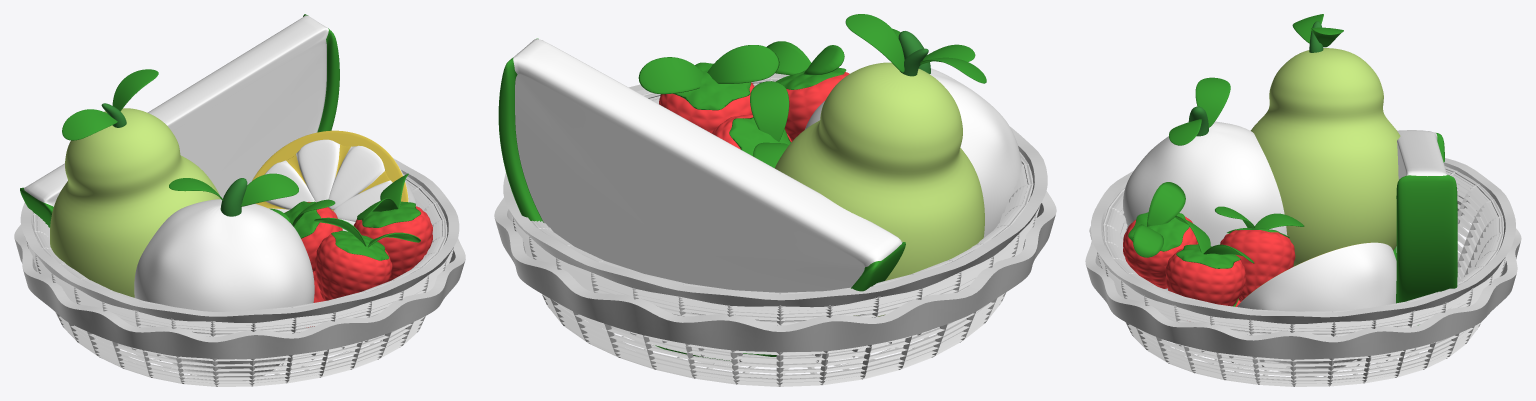
File: fruits-3d-animated-icon-781503551023.glb
3 views of the same model, side by side, from view 1: azimuth 30°, elevation 25°; view 2: azimuth 150°, elevation 25°; view 3: azimuth 270°, elevation 25° (orthographic). The views are drawn at different scales.
Visible parts, largest first — view 1: Fruit Basket, Cylinder, Sphere.003, Sphere.001, Cylinder.001, Cube.003, Sphere.002, Cube.009, Cube.001, Cube.007, Cube.002, Cube.004 (+2 smaller); view 2: Cylinder, Fruit Basket, Sphere.003, Sphere.001, Cube.002, Cube.012, Cube.007, Cube.004, Cube.001, Cube.003, Cube.009; view 3: Fruit Basket, Sphere.003, Sphere.001, Cylinder, Sphere.002, Cube.004, Cube.001, Cube.011, Cube.009, Cube.003, Cube.002, Cube.007 (+1 smaller).
Part boxes in pixels (bbox=[...]): Fruit Basket: bbox=[14, 158, 465, 386]; Cylinder: bbox=[20, 14, 339, 227]; Sphere.003: bbox=[50, 108, 220, 297]; Sphere.001: bbox=[134, 199, 314, 377]; Cylinder.001: bbox=[265, 139, 392, 231]; Cube.003: bbox=[315, 234, 392, 300]; Sphere.002: bbox=[252, 130, 417, 210]; Cube.009: bbox=[169, 173, 298, 216]; Cube.001: bbox=[353, 206, 432, 281]; Cube.007: bbox=[62, 69, 158, 140]; Cube.002: bbox=[357, 173, 420, 227]; Cube.004: bbox=[314, 217, 420, 260]; Cylinder: bbox=[498, 38, 905, 360]; Fruit Basket: bbox=[494, 73, 1056, 386]; Sphere.003: bbox=[775, 62, 984, 316]; Sphere.001: bbox=[805, 68, 1021, 237]; Cube.002: bbox=[638, 45, 779, 110]; Cube.012: bbox=[729, 81, 790, 167]; Cube.007: bbox=[845, 14, 986, 83]; Cube.004: bbox=[766, 41, 846, 89]; Cube.001: bbox=[659, 82, 754, 133]; Cube.003: bbox=[784, 72, 849, 141]; Cube.009: bbox=[892, 28, 975, 73]; Fruit Basket: bbox=[1085, 158, 1521, 386]; Sphere.003: bbox=[1250, 48, 1400, 266]; Sphere.001: bbox=[1123, 121, 1287, 290]; Cylinder: bbox=[1393, 130, 1457, 325]; Sphere.002: bbox=[1231, 242, 1396, 377]; Cube.004: bbox=[1128, 182, 1189, 257]; Cube.001: bbox=[1165, 248, 1245, 306]; Cube.011: bbox=[1220, 230, 1295, 301]; Cube.009: bbox=[1169, 77, 1230, 145]; Cube.003: bbox=[1123, 216, 1198, 288]; Cube.002: bbox=[1175, 216, 1254, 268]; Cube.007: bbox=[1292, 14, 1343, 52].
Bounding box in the file's own units: 3.1 × 2.02 × 3.1.
